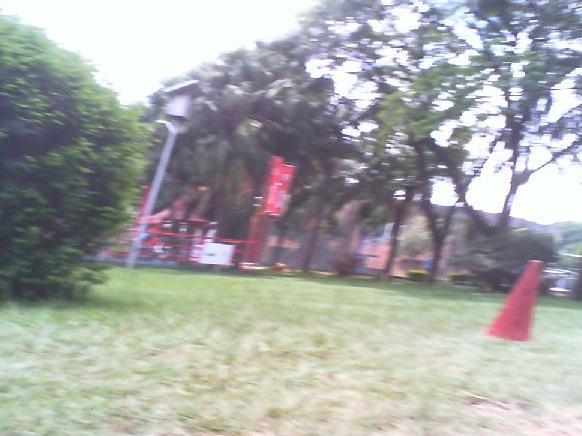0 cone: (482, 260, 543, 345)
